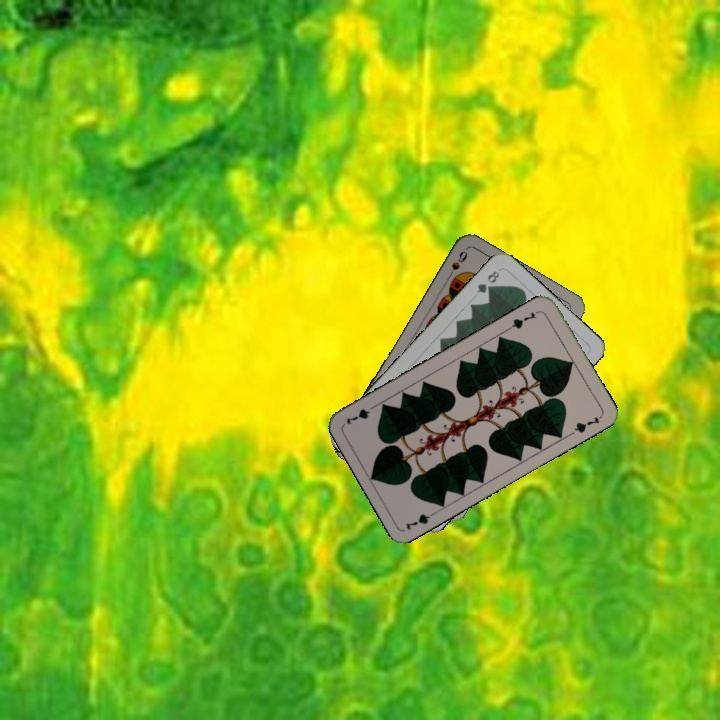G7: (401, 507, 440, 533), (505, 306, 542, 332)
G8: (472, 267, 502, 296)
S9: (443, 246, 470, 283)
